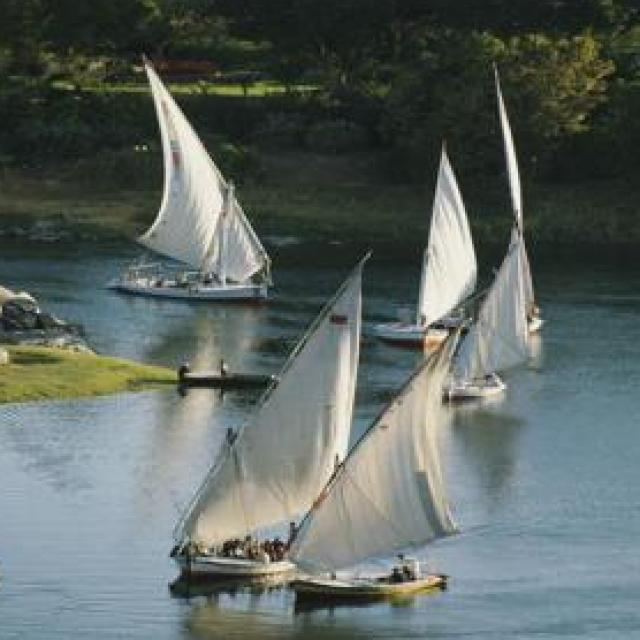sailboat: (168, 251, 382, 583), (295, 335, 465, 606), (104, 56, 259, 296), (367, 140, 482, 343), (484, 52, 557, 329), (446, 230, 532, 397)
